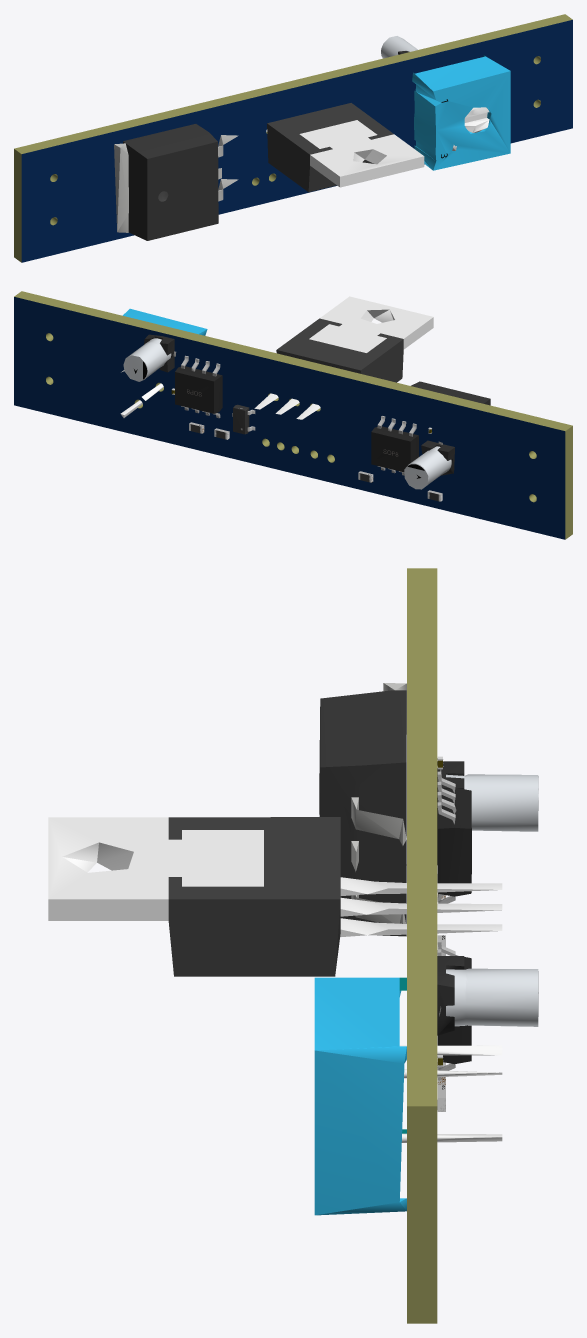
The model's file is 3D_PCB2_2025-10-23.obj.
3 renders of one model, top to bottom at view 1: azimuth 30°, elevation 25°; view 2: azimuth 150°, elevation 25°; view 3: azimuth 270°, elevation 25°, orthographic. The views are drawn at different scales.
Bounding box in the file's own units: 66.65 × 12.55 × 25.67.
